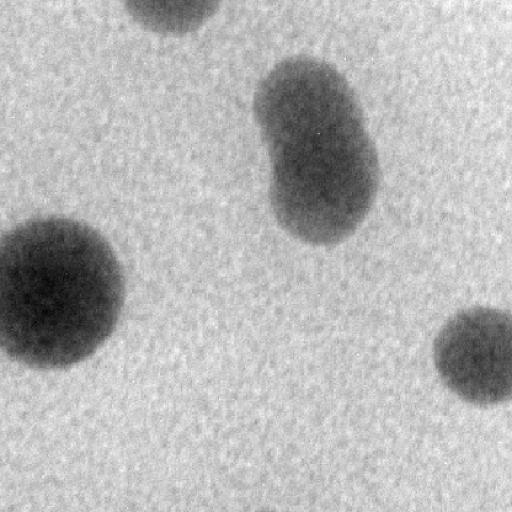Nanoparticles: (0, 212, 129, 371), (261, 154, 394, 245), (254, 54, 370, 154), (261, 130, 387, 204), (428, 299, 512, 405), (124, 0, 228, 38)
